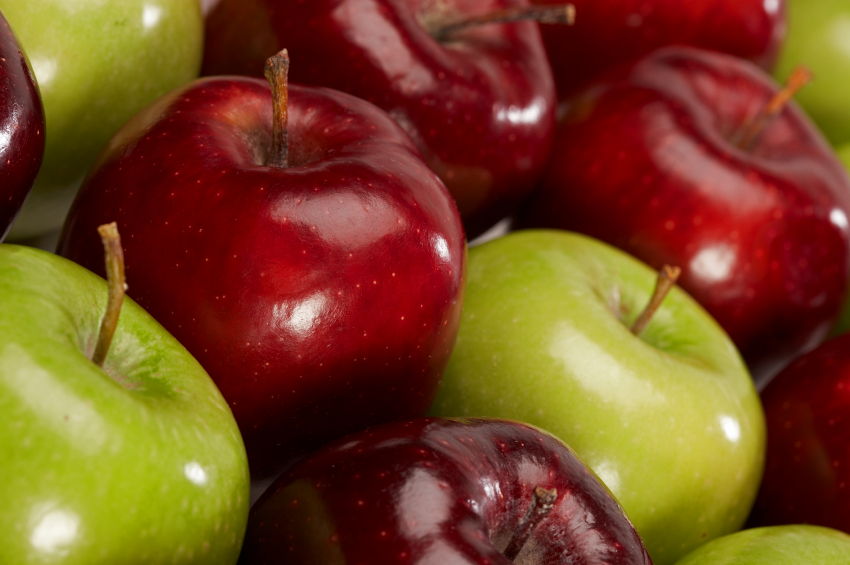apple: (64, 84, 484, 457), (197, 1, 559, 273), (550, 44, 850, 356)
